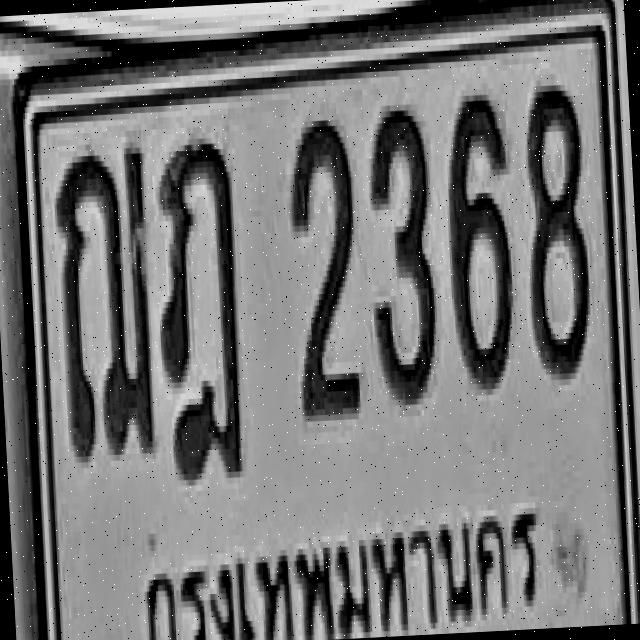2: (286, 114, 365, 422)
21ChorChoe: (53, 142, 159, 462)
23DorChaDa: (150, 134, 247, 484)
3: (362, 104, 441, 406)
6: (442, 88, 519, 391)
8: (520, 78, 594, 381)
Bangkok: (127, 481, 558, 640)
